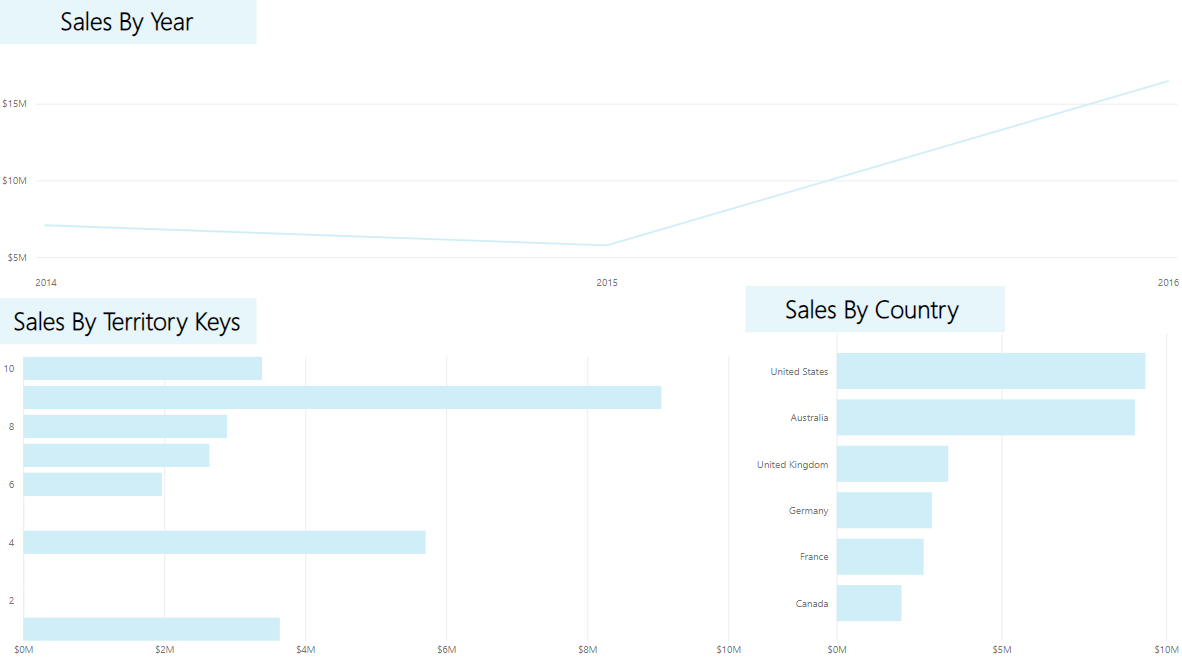

Layout of this report page (visuals, bound fields, positions):
{"tool":"powerbi","page":{"name":"Sales","canvas":[1280,720],"ordinal":2},"visuals":[{"type":"lineChart","fields":{"Category":["Sales.Year"],"Y":["Sales.Sales/Year"]},"box":[0,50.2,1279.8,273.4],"z":0},{"type":"clusteredBarChart","fields":{"Category":["Territories.Country"],"Y":["Sales.Sales/Year"]},"box":[807.4,349.5,472.4,370.5],"z":1000},{"type":"clusteredBarChart","fields":{"Category":["Territories.SalesTerritoryKey"],"Y":["Sales.Sales/Year"]},"box":[0,373.8,807.4,346.2],"z":2000},{"type":"textbox","box":[0,0,279.9,50.2],"z":3000},{"type":"textbox","box":[0,323.6,279.9,50.2],"z":4000},{"type":"textbox","box":[807.4,310.7,279.9,50.2],"z":5000}]}

Visuals, with their boxes in screenshot pixels (x1, y1, x2, y2), scaled from the page's 1280x720 canvas onto the 1182x659 screenshot:
lineChart - Sales.Year x Sales.Sales/Year: (0,46,1181,296)
clusteredBarChart - Territories.Country x Sales.Sales/Year: (746,320,1181,658)
clusteredBarChart - Territories.SalesTerritoryKey x Sales.Sales/Year: (0,342,746,658)
textbox: (0,0,258,46)
textbox: (0,296,258,342)
textbox: (746,284,1004,330)
